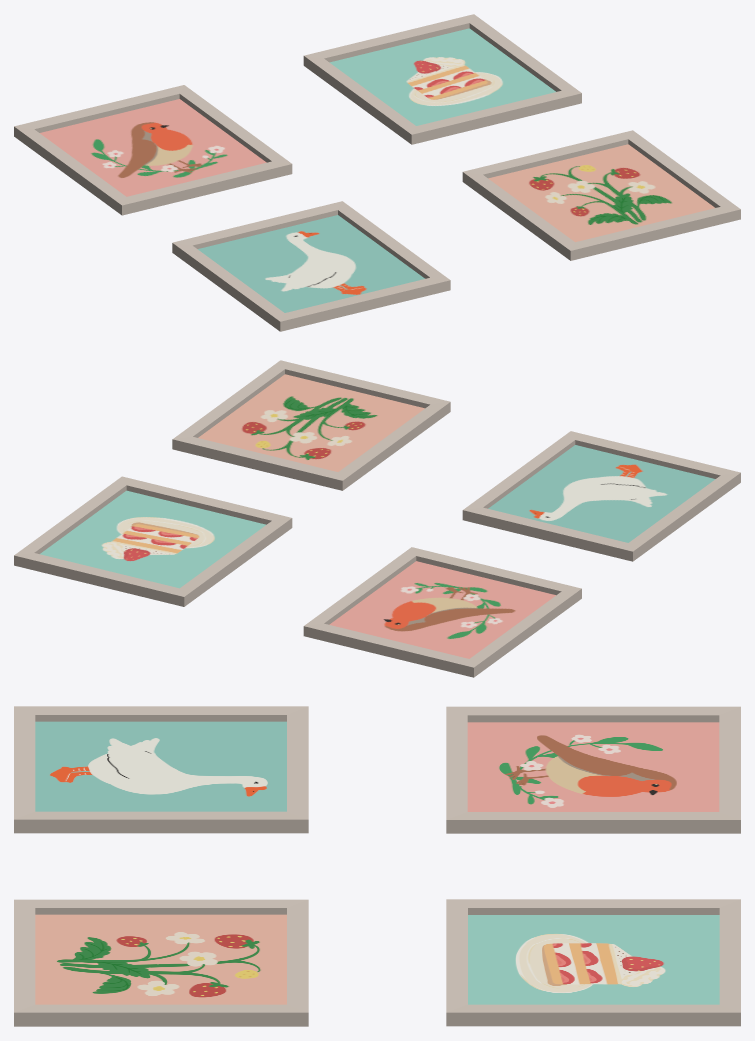
File: wall_decor_-_lowpoly_art_-_wall_paintings.glb
3 views of the same model, one above another, from view 1: azimuth 30°, elevation 25°; view 2: azimuth 150°, elevation 25°; view 3: azimuth 270°, elevation 25° (orthographic). The views are drawn at different scales.
Visible parts, largest first — view 1: Plane.001, Plane.006, Plane.007, Plane.004; view 2: Plane.004, Plane.001, Plane.006, Plane.007; view 3: Plane.001, Plane.004, Plane.006, Plane.007.
Boxes of the visible parts, <box> form: Plane.001: <box>303,14,581,144</box>; Plane.006: <box>172,201,450,331</box>; Plane.007: <box>14,85,292,215</box>; Plane.004: <box>462,130,740,260</box>; Plane.004: <box>172,360,450,490</box>; Plane.001: <box>14,476,292,606</box>; Plane.006: <box>462,431,740,561</box>; Plane.007: <box>303,547,581,677</box>; Plane.001: <box>446,899,740,1026</box>; Plane.004: <box>14,899,308,1026</box>; Plane.006: <box>14,706,308,833</box>; Plane.007: <box>446,706,740,833</box>.
Bounding box in the file's own units: 4.92 × 0.1028 × 4.94.
5 materials, 4 textured.
